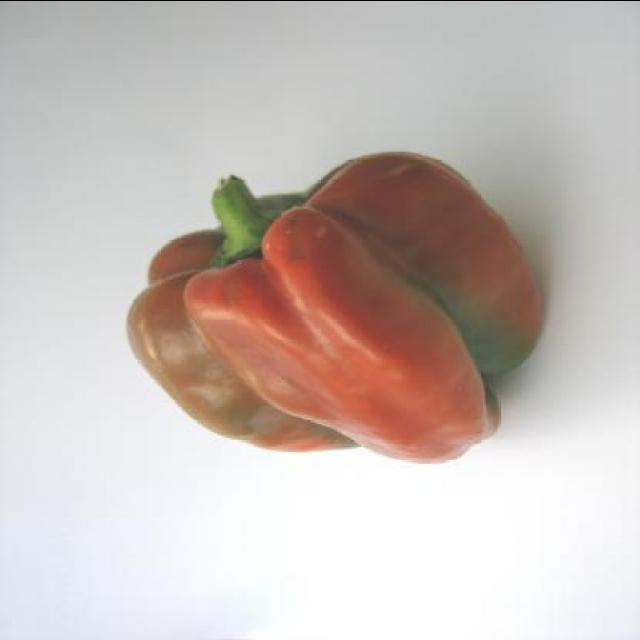Bell pepper: (123, 150, 545, 464)
